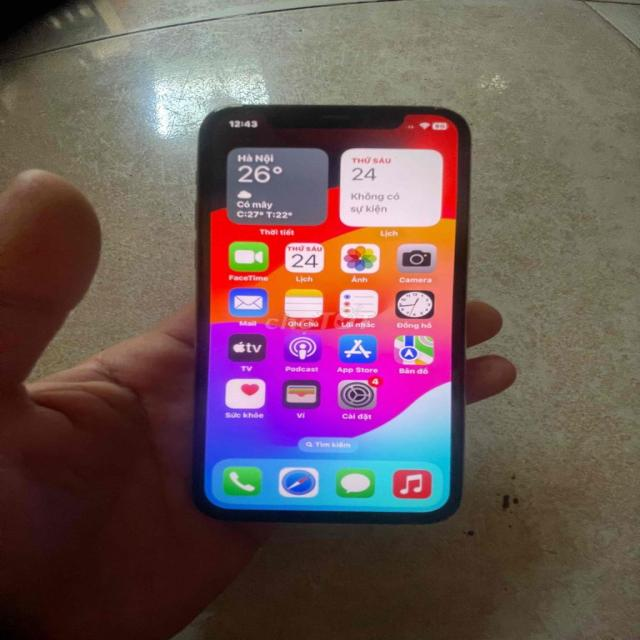gen_11: (182, 93, 480, 526)
